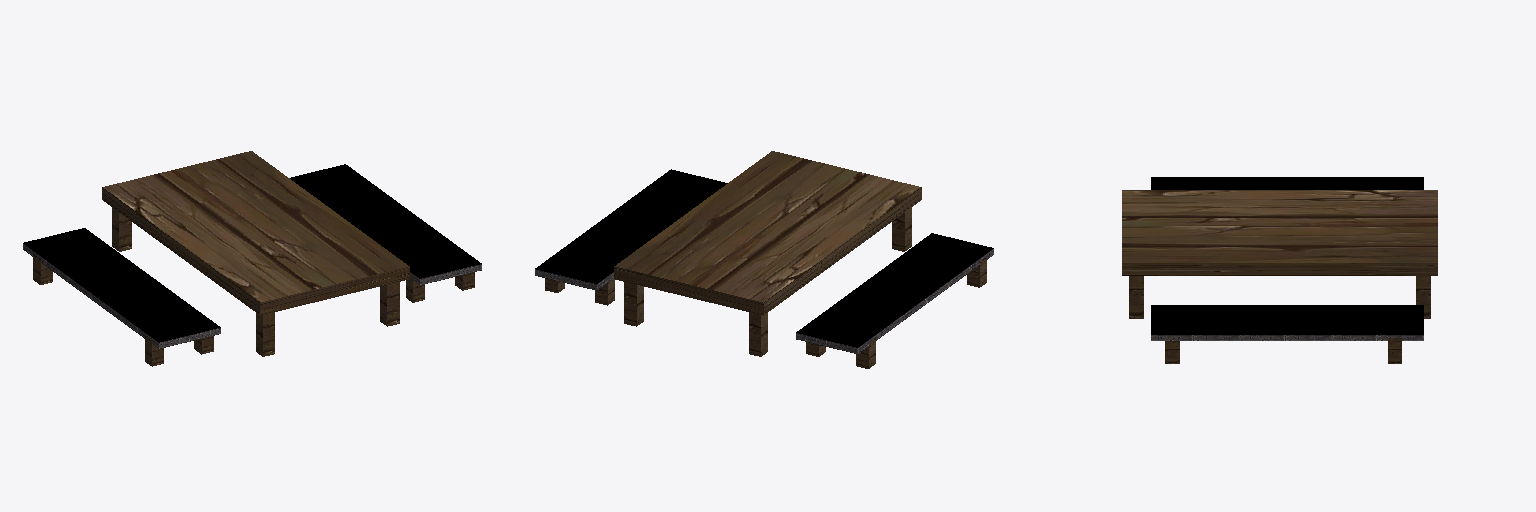
3 renders of one model, left to right at view 1: azimuth 30°, elevation 25°; view 2: azimuth 150°, elevation 25°; view 3: azimuth 270°, elevation 25°, orthographic.
Visible parts, largest first — view 1: polySurface19; view 2: polySurface19; view 3: polySurface19.
Boxes of the visible parts, <box> form: polySurface19: <box>23,151,481,366</box>; polySurface19: <box>535,151,993,368</box>; polySurface19: <box>1122,177,1437,363</box>.
Size of the model in its own units: 18.43 by 3.19 by 15.6.
3 materials, 2 textured.